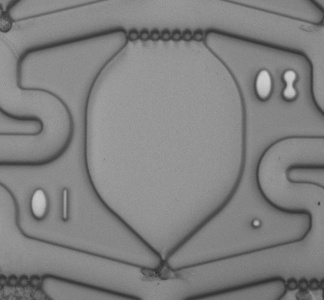AptNum: (248, 61, 304, 111)
Marker: (245, 212, 268, 234)
StNum: (25, 181, 76, 229)
Trap: (140, 258, 189, 300)
